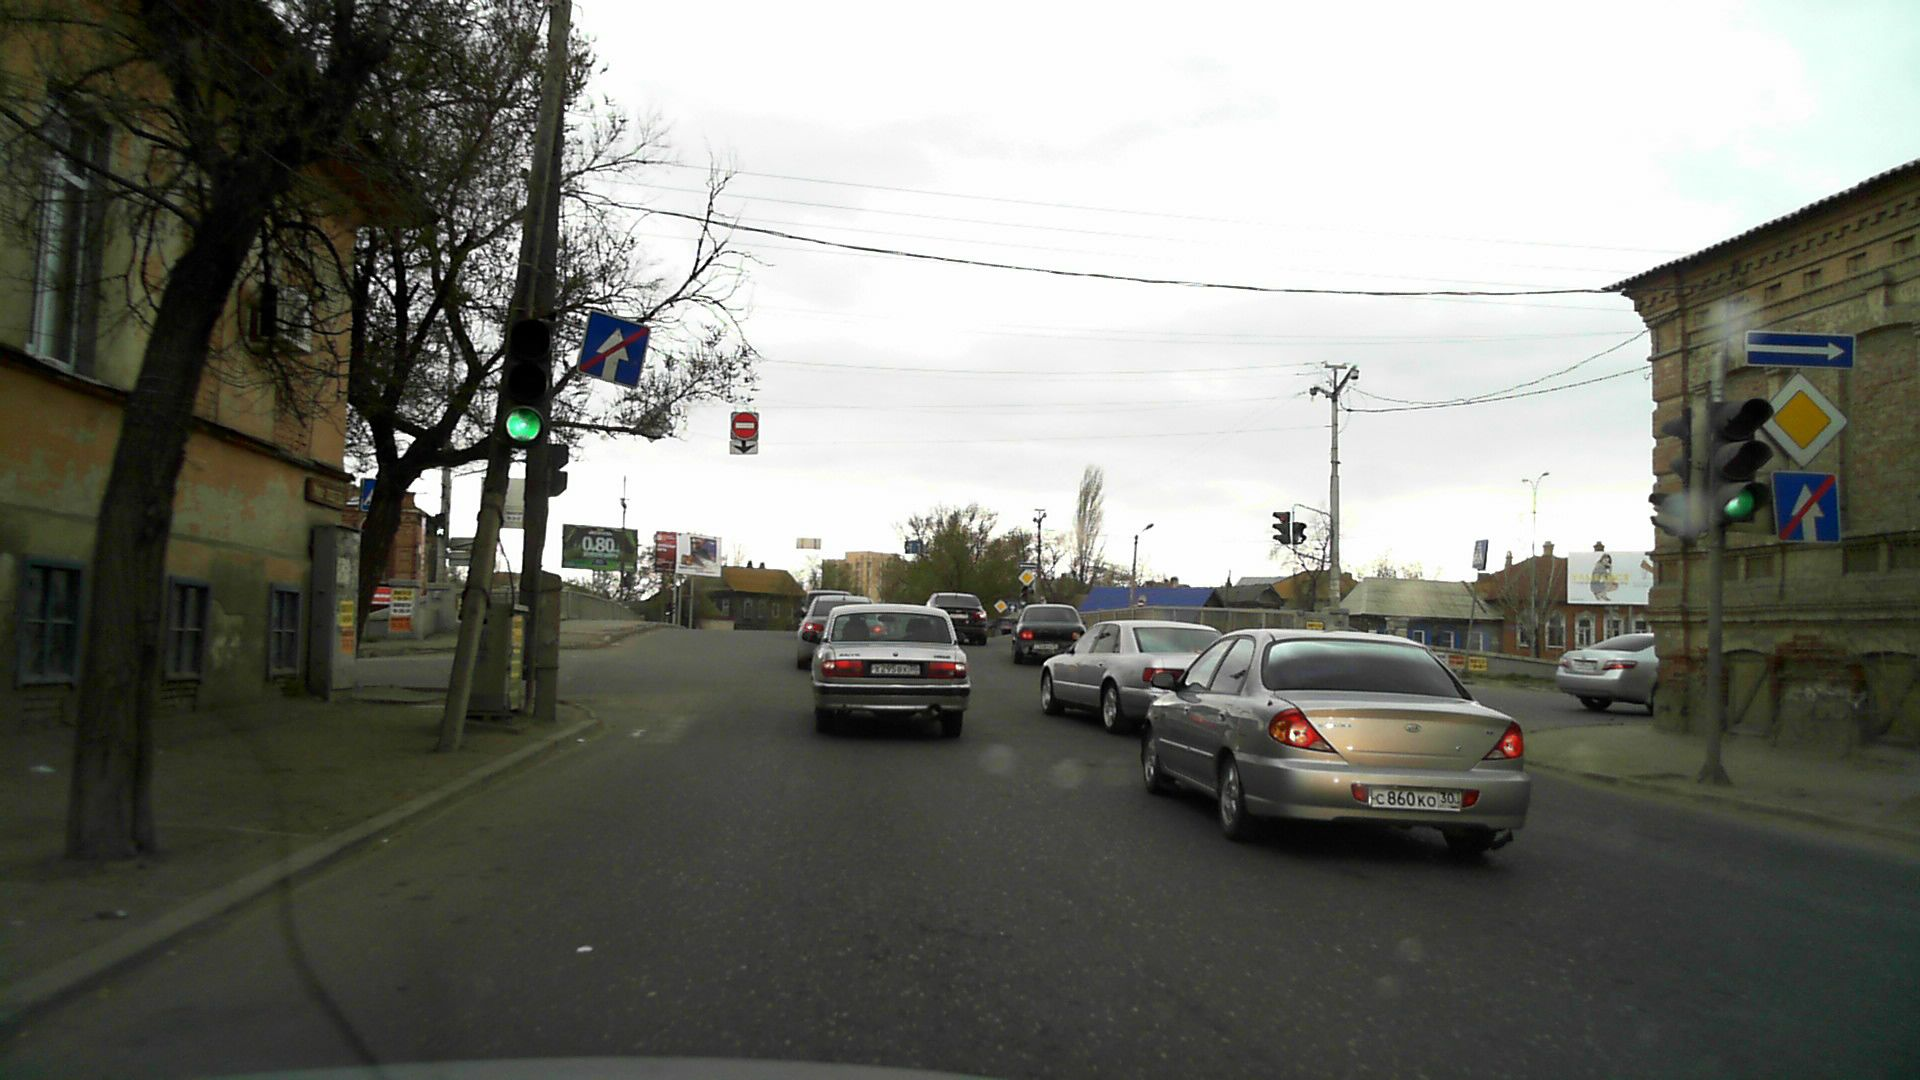One-Way Traffic: (1745, 330, 1855, 369)
